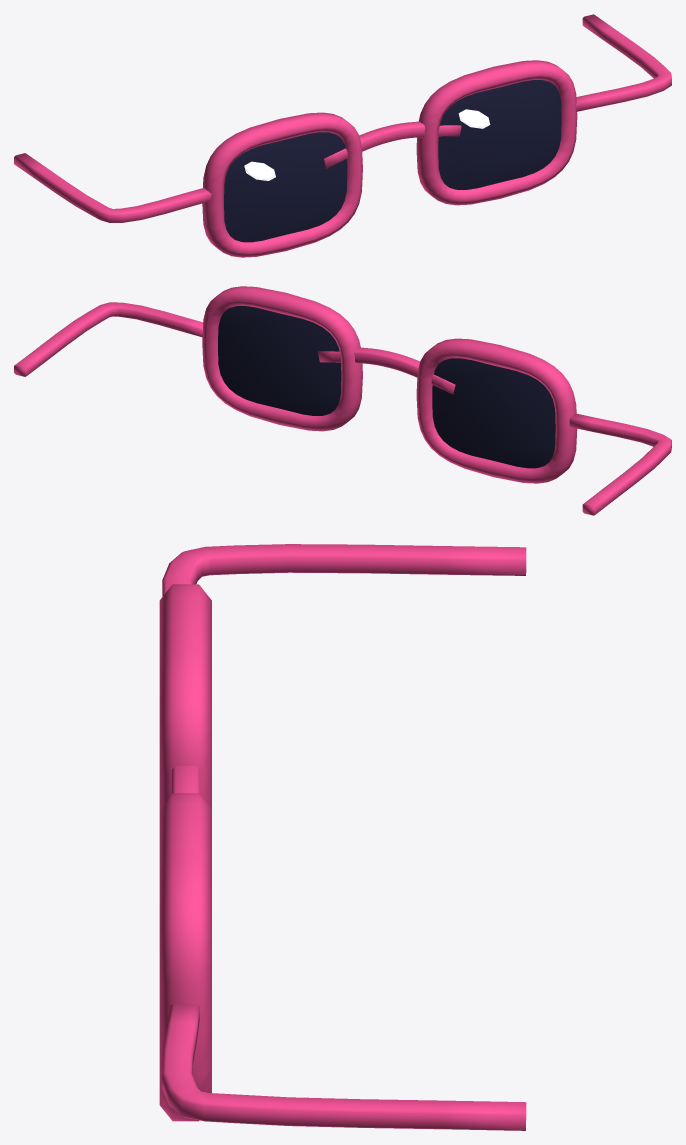
The model's file is sunglasses-chick.glb.
3 renders of one model, top to bottom at view 1: azimuth 30°, elevation 25°; view 2: azimuth 150°, elevation 25°; view 3: azimuth 270°, elevation 25°, orthographic. The views are drawn at different scales.
Visible parts, largest first — view 1: lens, lens.001, rim, rim.001, temple.001, temple, bridge, shine, shine.001; view 2: lens.001, lens, rim.001, rim, temple, temple.001, bridge; view 3: rim, temple, temple.001, rim.001.
Boxes of the visible parts, x1,y1,x2,y2 form: lens: (438,80,561,189); lens.001: (224,132,347,242); rim: (416,60,577,205); rim.001: (202,112,362,257); temple.001: (14,153,211,222); temple: (576,14,671,111); bridge: (324,121,461,168); shine: (458,109,490,128); shine.001: (244,161,275,180); lens.001: (432,358,555,468); lens: (218,306,341,415); rim.001: (416,338,577,483); rim: (202,286,362,431); temple: (14,302,203,376); temple.001: (569,413,671,515); bridge: (318,347,455,394); rim: (159,793,211,1121); temple: (162,1004,526,1130); temple.001: (162,544,526,596); rim.001: (159,584,211,809).
Size of the model in its own units: 1.33 by 0.2784 by 0.3633.
